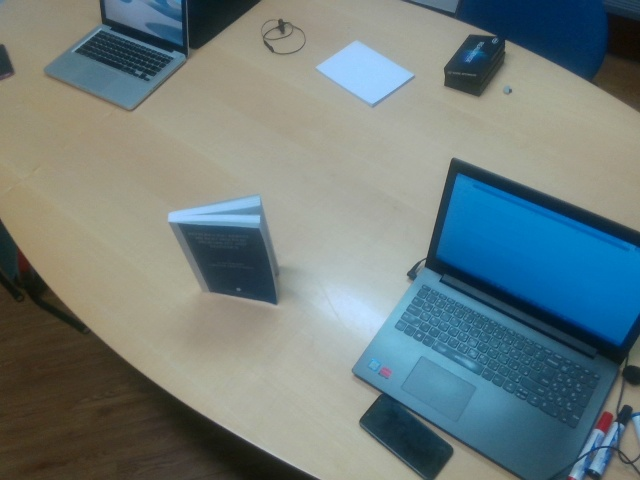book: (168, 197, 278, 303)
